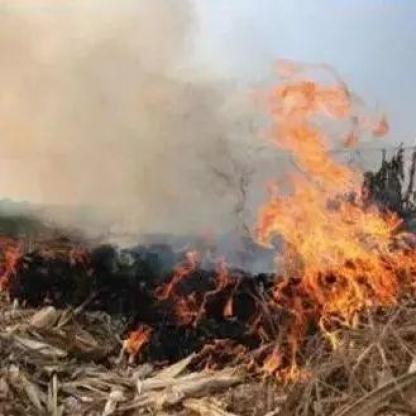fire: (232, 66, 414, 328)
